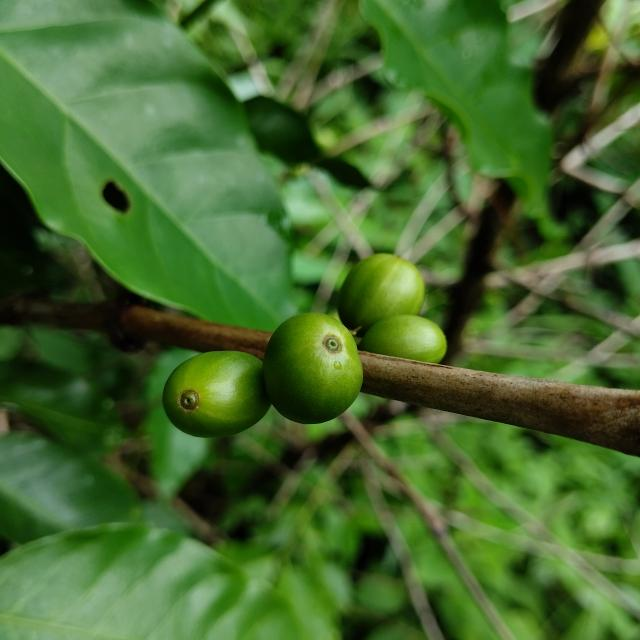green: (263, 313, 363, 424), (162, 351, 271, 438), (338, 253, 425, 334), (360, 315, 447, 363)
